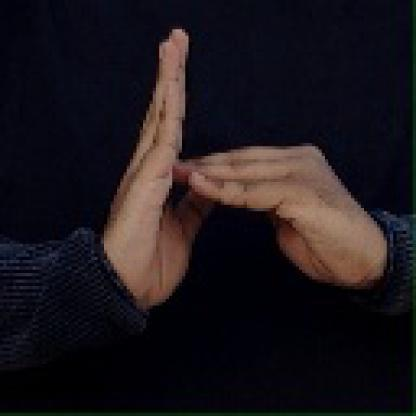Z: (116, 29, 362, 312)
